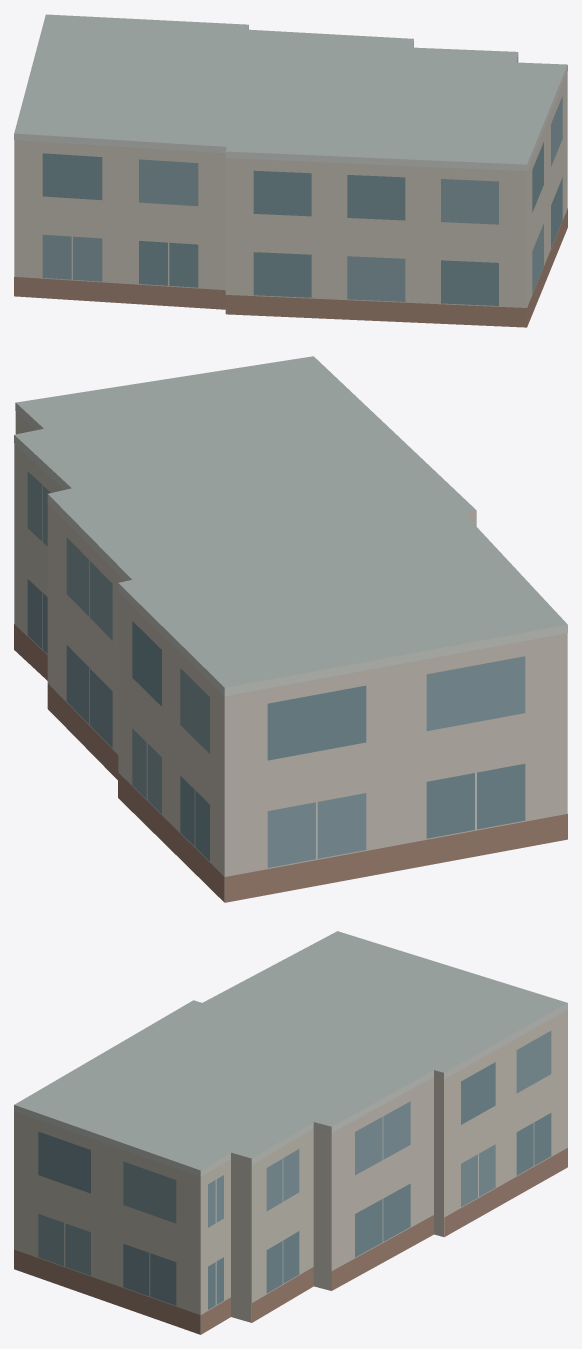
File: survey-upis-32892475.glb
3 views of the same model, one above another, from view 1: azimuth 30°, elevation 25°; view 2: azimuth 150°, elevation 25°; view 3: azimuth 270°, elevation 25° (orthographic). The views are drawn at different scales.
Visible parts, largest first — view 1: survey-upis-32892475.tmp; view 2: survey-upis-32892475.tmp; view 3: survey-upis-32892475.tmp.
Part boxes in pixels (<box>): survey-upis-32892475.tmp: <box>14,14,567,327</box>; survey-upis-32892475.tmp: <box>14,356,567,902</box>; survey-upis-32892475.tmp: <box>14,931,567,1334</box>.
Size of the model in its own units: 19.06 by 6.1 by 18.63.
